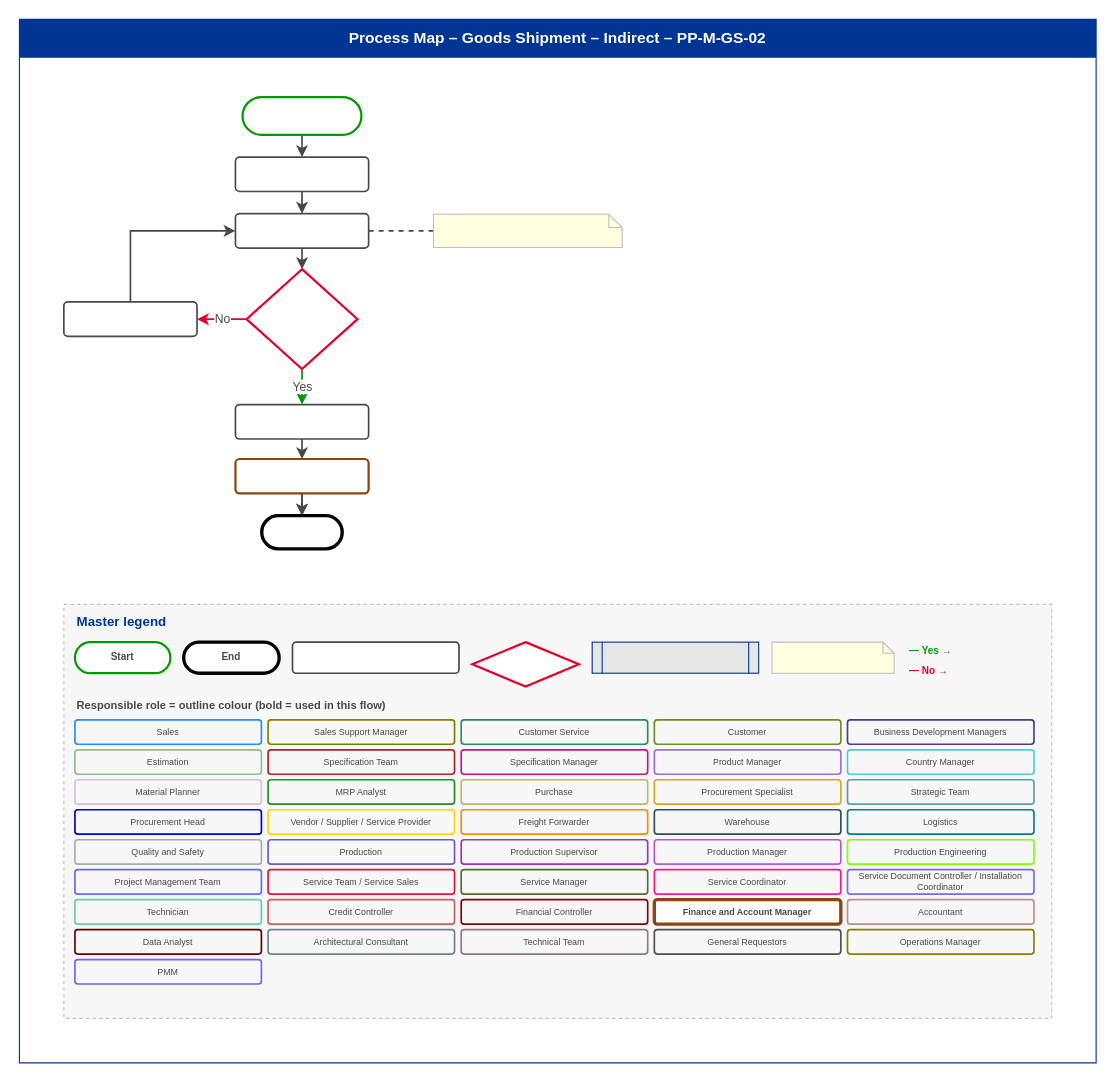
Image size: 1116x1082. Some labels were removed from this diagram. Here are the shapes that lost their labels. From the top down, the centre of each, then its label:
At point (301, 115): "Goods Shipment Departmental".
At point (301, 174): "Submit PO to Vendor".
At point (301, 230): "Follow Up for Delivery".
At point (527, 230): "Use dormakaba DHL Account if the Vendor doesn't provide delivery.".
At point (129, 319): "Raise NCR".
At point (301, 319): "Product Approved ?".
At point (301, 421): "Share Invoice with Finance".
At point (301, 475): "Process Payment".
At point (301, 531): "EXIT".
At point (375, 657): "Activity (outline = role)".
At point (525, 663): "Decision".
At point (675, 657): "Linked process (Ref ID)".
At point (832, 657): "Note / checklist".
